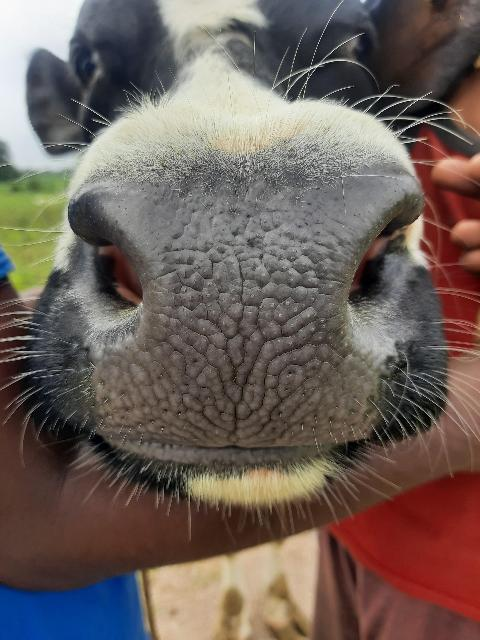Muzzle: (101, 193, 370, 441)
